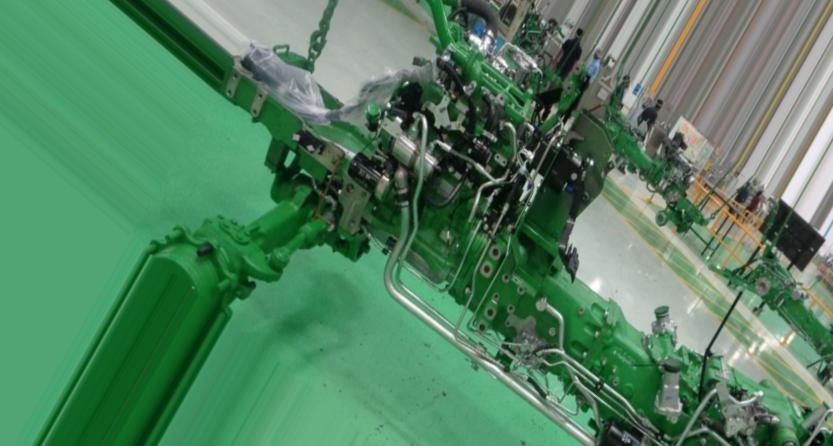engine: (218, 0, 833, 446)
